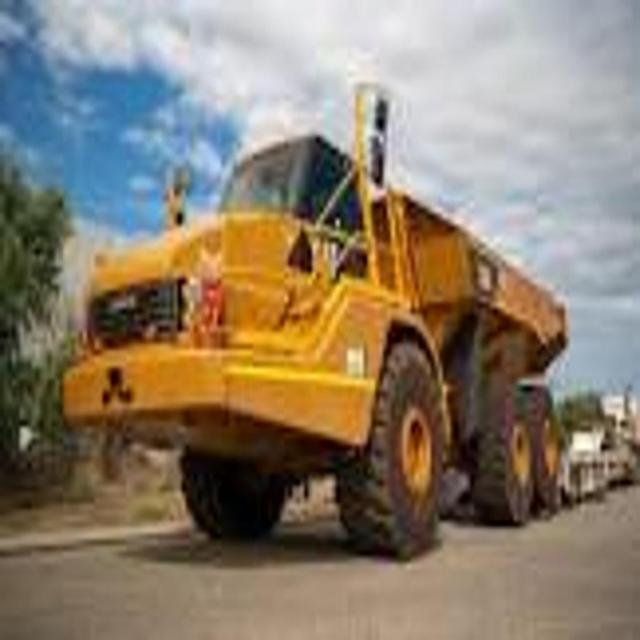dump_truck: (59, 92, 570, 564)
